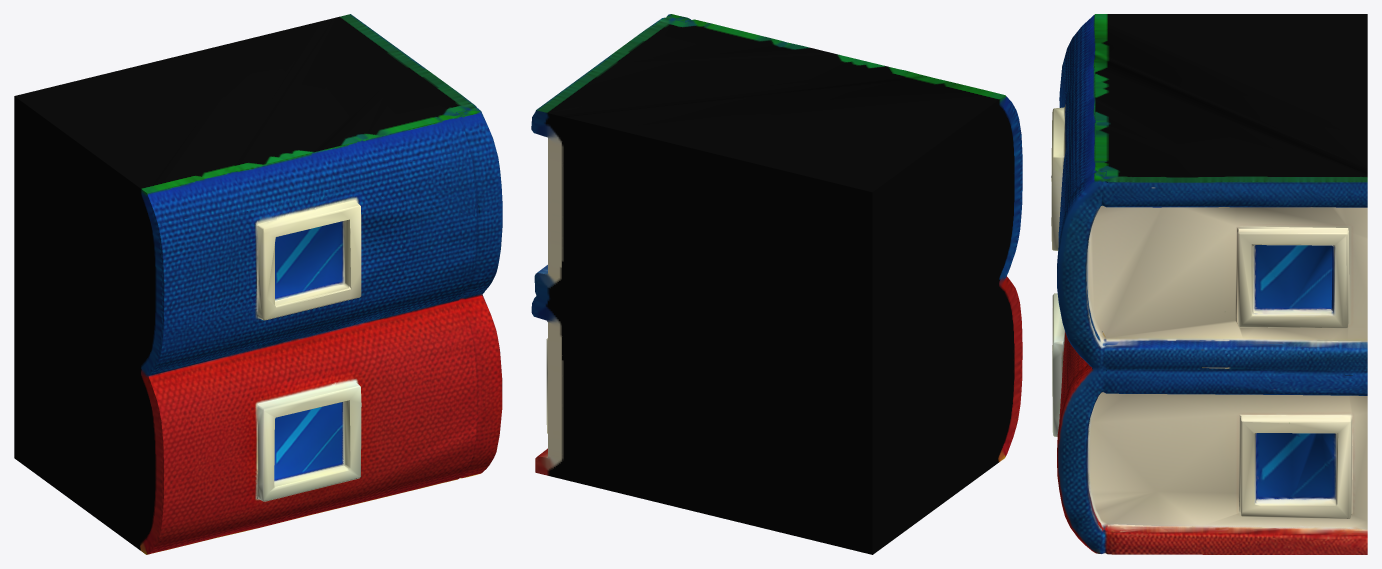
The model's file is 6-upper-walls-front-right.fbx.
The picture shows the model from 3 angles, left to right: view 1: azimuth 30°, elevation 25°; view 2: azimuth 150°, elevation 25°; view 3: azimuth 270°, elevation 25°; orthographic projection. The views are drawn at different scales.
Visible parts, largest first — view 1: upper-walls-front-right; view 2: upper-walls-front-right; view 3: upper-walls-front-right.
Part boxes in pixels (box(x1,y1,x2,y2)): upper-walls-front-right: box(14, 14, 502, 554); upper-walls-front-right: box(531, 14, 1022, 554); upper-walls-front-right: box(1051, 14, 1367, 554).
Size of the model in its own units: 5033 by 5099 by 3926.
Materials: 1 (1 with a texture image).
